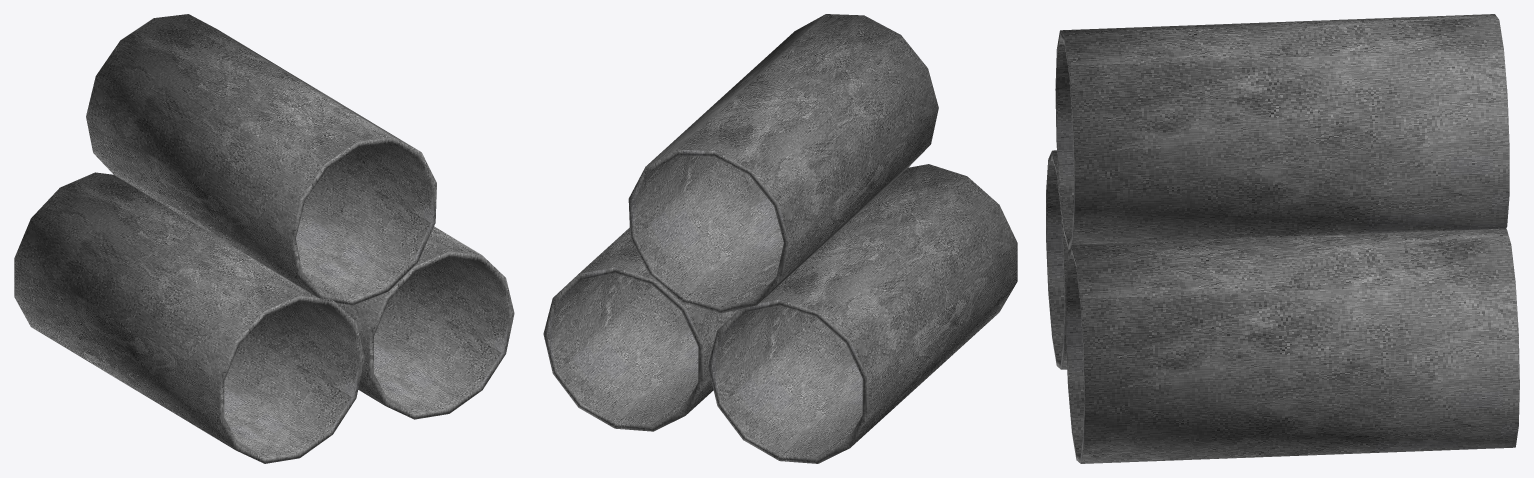
File: Cylinder Concrete.glb
The picture shows the model from 3 angles, left to right: view 1: azimuth 30°, elevation 25°; view 2: azimuth 150°, elevation 25°; view 3: azimuth 270°, elevation 25°; orthographic projection. The views are drawn at different scales.
Parts seen in each view (by area): view 1: Circle.002, Circle.001, Circle; view 2: Circle.002, Circle.001, Circle; view 3: Circle, Circle.002, Circle.001.
Part boxes in pixels (x1,y1,x2,y2): Circle.002: (86, 14, 436, 305); Circle.001: (14, 172, 364, 463); Circle: (336, 226, 514, 419); Circle.002: (628, 14, 938, 313); Circle.001: (708, 164, 1017, 463); Circle: (543, 228, 739, 431); Circle: (1065, 228, 1519, 463); Circle.002: (1055, 14, 1509, 249); Circle.001: (1046, 150, 1069, 369).
Bounding box in the file's own units: 3.31 × 2.8 × 3.27.
1 material, 1 textured.
